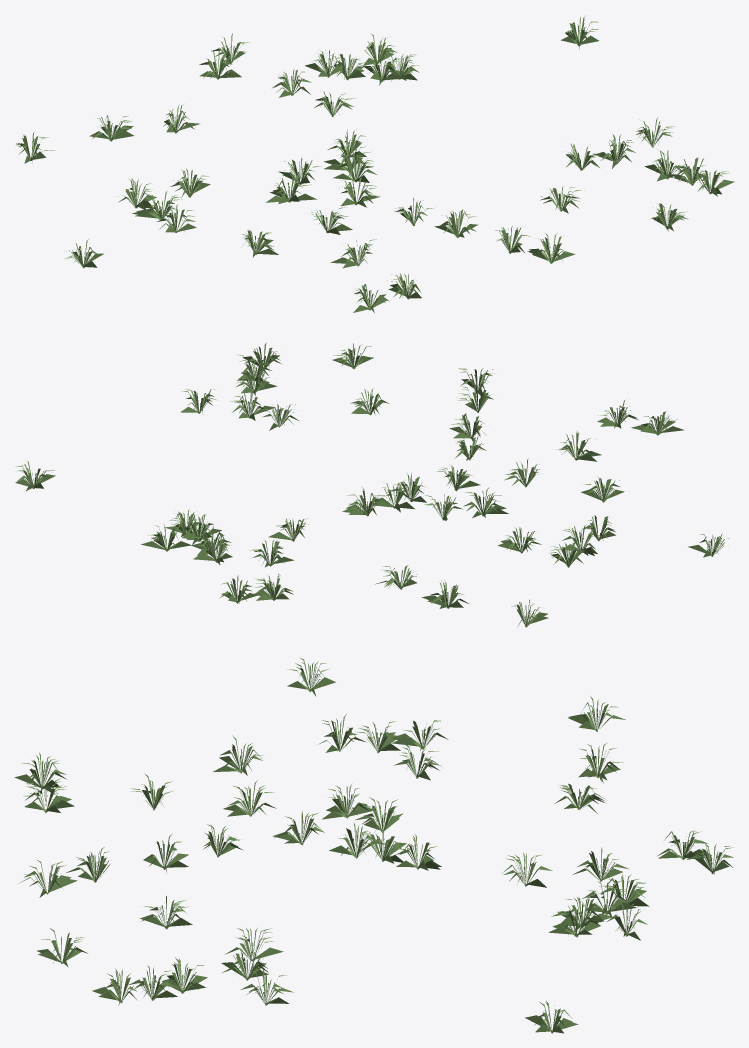
File: teaching3-vegetation-18-medium.glb
3 views of the same model, one above another, from view 1: azimuth 30°, elevation 25°; view 2: azimuth 150°, elevation 25°; view 3: azimuth 270°, elevation 25° (orthographic). The views are drawn at different scales.
Visible parts, largest first — view 1: mondo grass.001; view 2: mondo grass.001; view 3: mondo grass.001.
Boxes of the visible parts, x1=… form: mondo grass.001: x1=16, y1=16, x2=734, y2=313; mondo grass.001: x1=15, y1=342, x2=729, y2=627; mondo grass.001: x1=14, y1=658, x2=733, y2=1033.
Size of the model in its own units: 12.75 by 0.4911 by 10.68.
